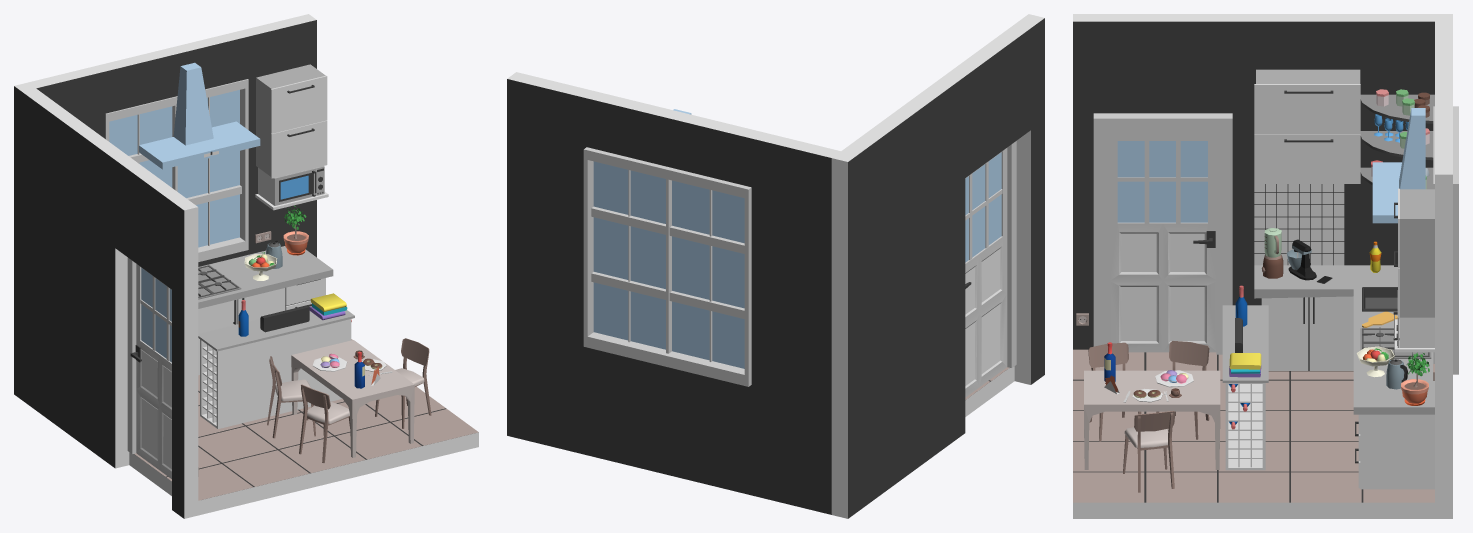
The model's file is room_11.glb.
The picture shows the model from 3 angles, left to right: view 1: azimuth 30°, elevation 25°; view 2: azimuth 150°, elevation 25°; view 3: azimuth 270°, elevation 25°; orthographic projection. The views are drawn at different scales.
Parts seen in each view (by area): view 1: Walls_011.007, floor_020.001, window_018.001, kitchen_item_001.001, Walls_011.003, kitchen_item_048.001, kitchen_item_047.001, Walls_011.002, door_023.001, Walls_011.006, Walls_011.001, Walls_011.008 (+12 smaller); view 2: Walls_011.007, window_018.001, Walls_011.004, Walls_011.002, Walls_011.005, Walls_011.006, door_023.001, Walls_011.003, Walls_011.008, door_024.001, Walls_011.001; view 3: floor_020.001, Walls_011.007, door_023.001, kitchen_item_047.001, Walls_011.008, kitchen_item_048.002, door_024.001, Walls_011.001, Walls_011.003, Walls_011.002, floor_014.003, kitchen_item_001.001 (+18 smaller).
Part boxes in pixels (x1=…): Walls_011.007: x1=14, y1=82, x2=129, y2=468; floor_020.001: x1=134, y1=339, x2=478, y2=500; window_018.001: x1=105, y1=79, x2=248, y2=261; kitchen_item_001.001: x1=198, y1=306, x2=354, y2=428; Walls_011.003: x1=172, y1=198, x2=198, y2=518; kitchen_item_048.001: x1=256, y1=64, x2=327, y2=178; kitchen_item_047.001: x1=198, y1=246, x2=333, y2=375; Walls_011.002: x1=239, y1=14, x2=316, y2=257; door_023.001: x1=130, y1=264, x2=171, y2=478; Walls_011.006: x1=98, y1=31, x2=246, y2=113; Walls_011.001: x1=129, y1=391, x2=478, y2=515; Walls_011.008: x1=115, y1=156, x2=185, y2=289; Walls_011.007: x1=831, y1=72, x2=965, y2=518; window_018.001: x1=583, y1=147, x2=751, y2=386; Walls_011.004: x1=750, y1=131, x2=840, y2=514; Walls_011.002: x1=507, y1=72, x2=597, y2=455; Walls_011.005: x1=588, y1=348, x2=750, y2=494; Walls_011.006: x1=588, y1=92, x2=759, y2=186; door_023.001: x1=965, y1=148, x2=1007, y2=397; Walls_011.003: x1=1014, y1=14, x2=1044, y2=384; Walls_011.008: x1=949, y1=24, x2=1030, y2=177; door_024.001: x1=1007, y1=141, x2=1016, y2=367; Walls_011.001: x1=965, y1=366, x2=1014, y2=416; floor_020.001: x1=1073, y1=349, x2=1434, y2=502; Walls_011.007: x1=1226, y1=14, x2=1452, y2=305; door_023.001: x1=1109, y1=132, x2=1216, y2=352; kitchen_item_047.001: x1=1254, y1=265, x2=1434, y2=489; Walls_011.008: x1=1100, y1=14, x2=1226, y2=113; kitchen_item_048.002: x1=1254, y1=69, x2=1360, y2=183; door_024.001: x1=1093, y1=113, x2=1232, y2=354; Walls_011.001: x1=1073, y1=352, x2=1434, y2=518; Walls_011.003: x1=1073, y1=14, x2=1099, y2=349; Walls_011.002: x1=1435, y1=136, x2=1452, y2=518; floor_014.003: x1=1254, y1=184, x2=1344, y2=265; kitchen_item_001.001: x1=1222, y1=305, x2=1268, y2=470.
Size of the model in its own units: 4.2 by 4.2 by 4.27.
Materials: 1 (1 with a texture image).
